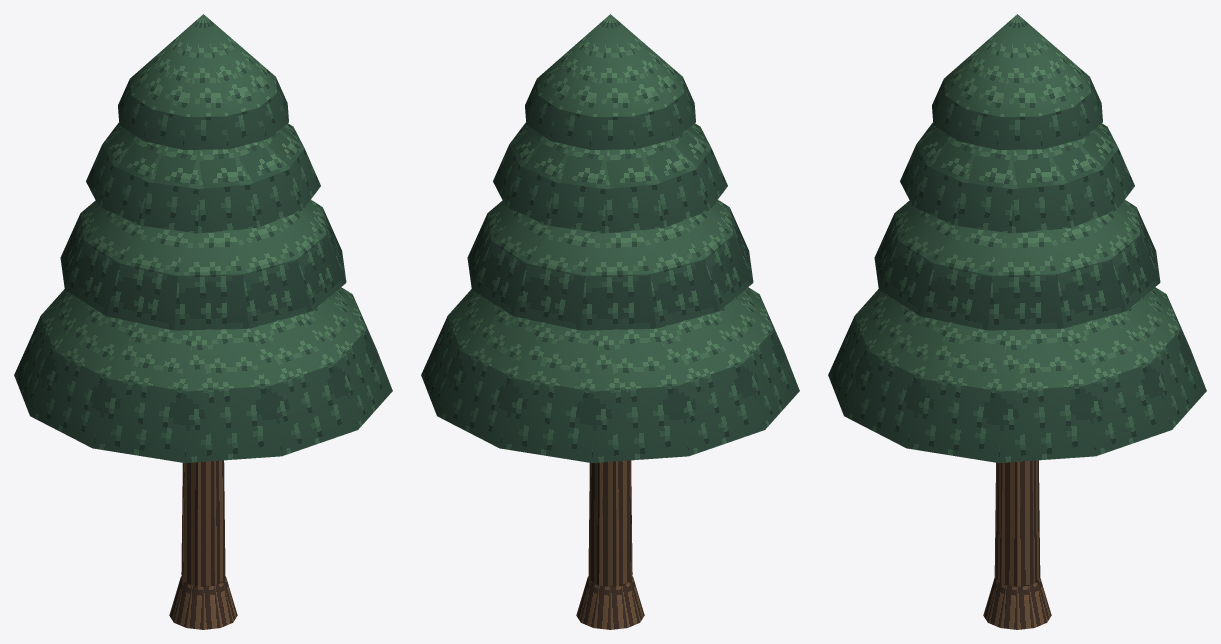
File: pine_7.glb
3 views of the same model, side by side, from view 1: azimuth 30°, elevation 25°; view 2: azimuth 150°, elevation 25°; view 3: azimuth 270°, elevation 25° (orthographic).
Parts seen in each view (by area): view 1: pine_8; view 2: pine_8; view 3: pine_8.
Boxes of the visible parts, x1=… form: pine_8: x1=14, y1=14, x2=392, y2=629; pine_8: x1=421, y1=14, x2=799, y2=629; pine_8: x1=828, y1=14, x2=1206, y2=629.
Bounding box in the file's own units: 2.25 × 3.94 × 2.25.
Materials: 3 (3 with a texture image).
